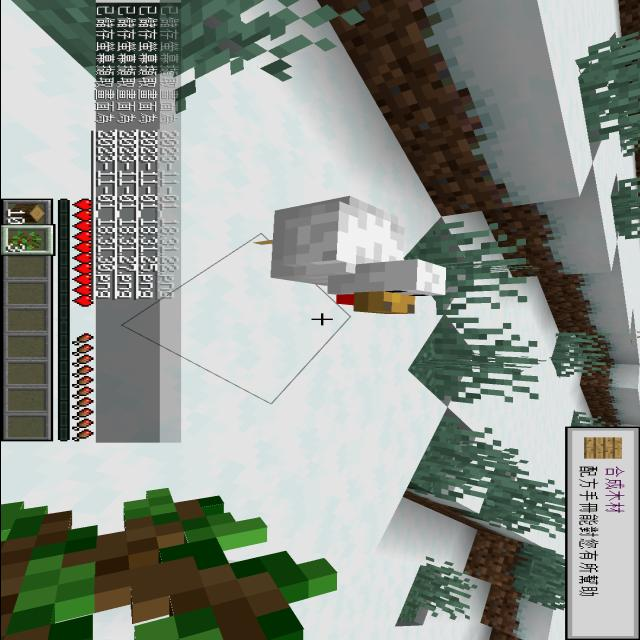chicken: (232, 180, 460, 334)
